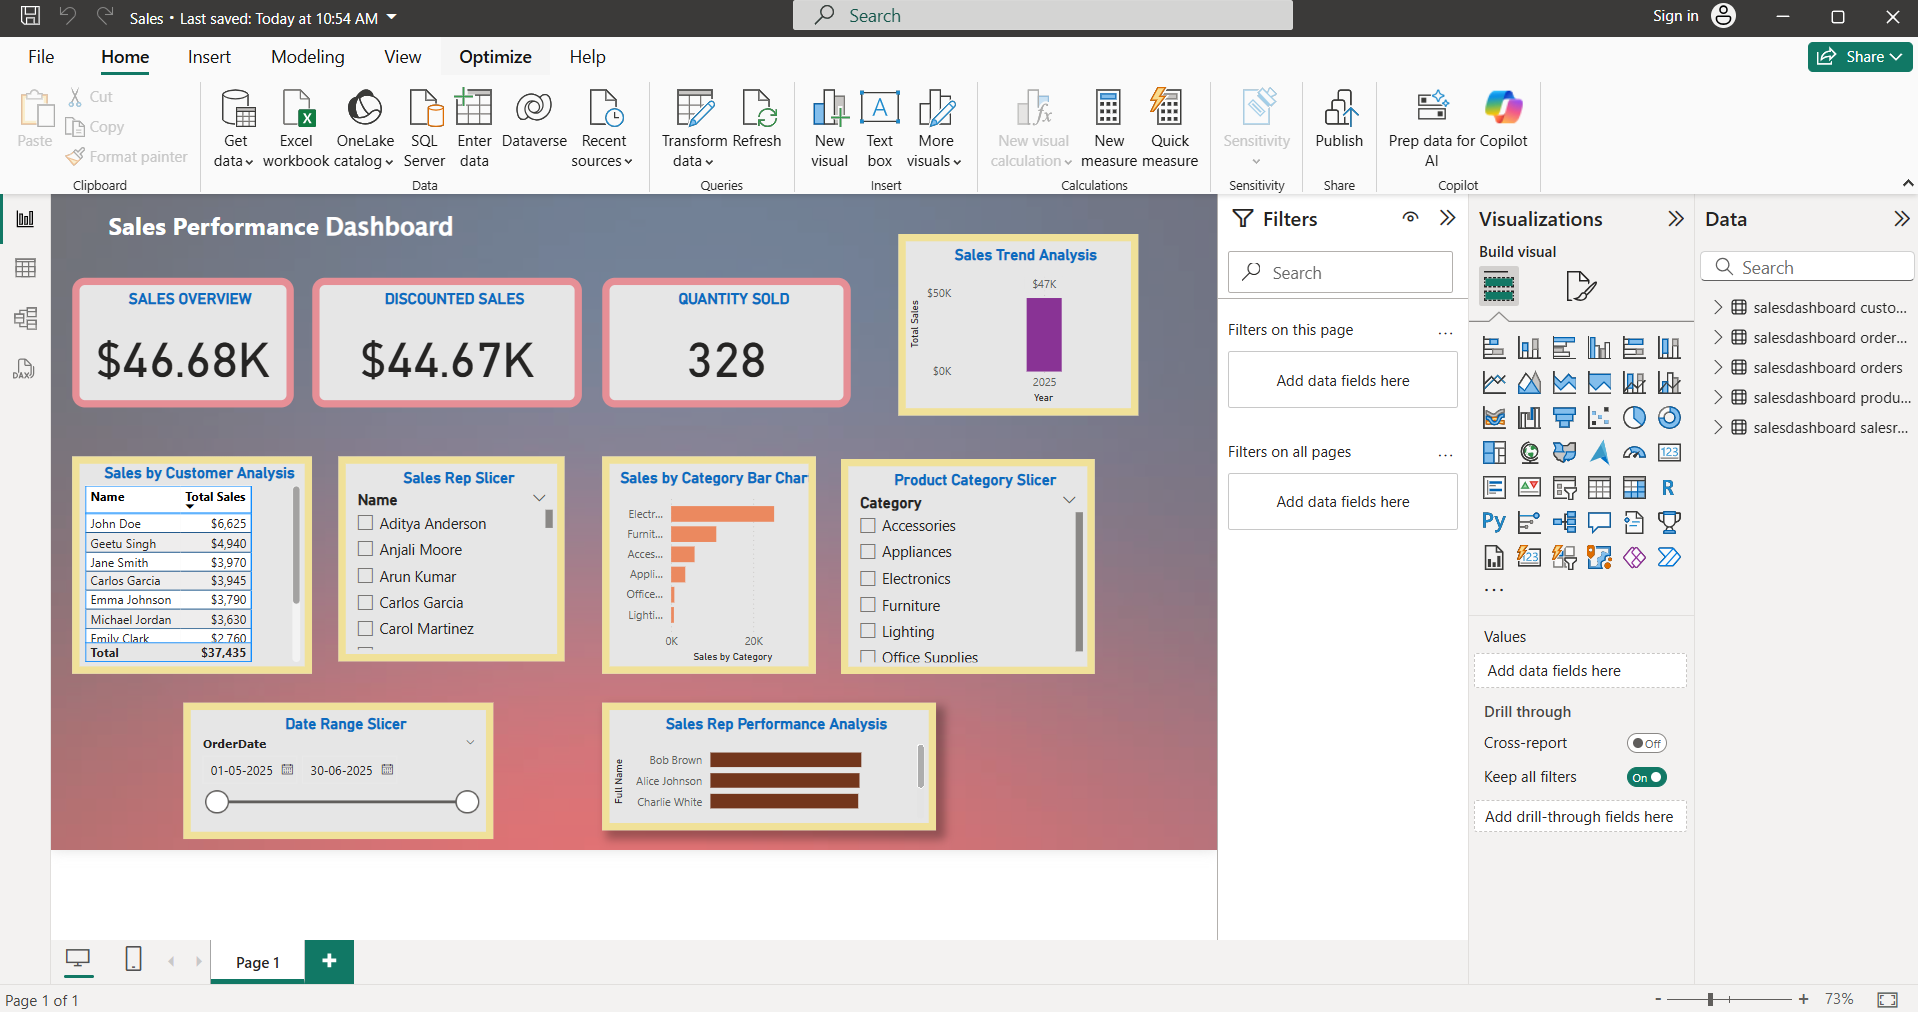

This screenshot's page, from the dashboard's own definition file:
{"tool":"powerbi","page":{"name":"Page 1","canvas":[1280,720],"ordinal":0},"visuals":[{"type":"card","title":"SALES OVERVIEW","fields":{"Values":["salesdashboard orderdetails.Total Sales"]},"box":[23.3,91.9,242.9,142.7],"z":0},{"type":"card","title":"QUANTITY SOLD","fields":{"Values":["salesdashboard orderdetails.Total Quantity Sold"]},"box":[605.1,91.9,273.1,142.7],"z":1000},{"type":"card","title":"DISCOUNTED SALES","fields":{"Values":["salesdashboard orderdetails.Total Discounted Sales"]},"box":[286.8,91.9,296.4,142.7],"z":2000},{"type":"clusteredBarChart","title":"Sales by Category Bar Chart","fields":{"Category":["salesdashboard products.Category"],"Y":["salesdashboard orderdetails.Sales by Category"]},"box":[605.1,288.2,234.6,238.8],"z":3000},{"type":"lineStackedColumnComboChart","title":"Sales Trend Analysis","fields":{"Category":["salesdashboard orders.OrderDate.Variation.Date Hierarchy.Year","salesdashboard orders.OrderDate.Variation.Date Hierarchy.Quarter","salesdashboard orders.OrderDate.Variation.Date Hierarchy.Month","salesdashboard orders.OrderDate.Variation.Date Hierarchy.Day"],"Y":["salesdashboard orderdetails.Total Sales"]},"box":[930.4,43.9,263.5,199],"z":4000},{"type":"tableEx","title":"Sales by Customer Analysis","fields":{"Values":["salesdashboard customers.Name","salesdashboard orderdetails.Total Sales"]},"box":[23.3,288.2,263.5,238.8],"z":5000},{"type":"clusteredBarChart","title":"Sales Rep Performance Analysis","fields":{"Category":["salesdashboard salesreps.Full Name"],"Y":["salesdashboard orderdetails.Total Sales"]},"box":[605.1,558.5,366.4,140],"z":6000},{"type":"slicer","title":" Product Category Slicer","fields":{"Values":["salesdashboard products.Category"]},"box":[867.2,290.9,278.6,236],"z":7000},{"type":"slicer","title":"Date Range Slicer","fields":{"Values":["salesdashboard orders.OrderDate"]},"box":[145.5,558.5,340.3,149.6],"z":8000},{"type":"slicer","title":"Sales Rep Slicer","fields":{"Values":["salesdashboard customers.Name"]},"box":[315.6,288.2,248.4,225],"z":9000},{"type":"textbox","box":[23.3,11,462.4,64.5],"z":10000}]}

Visuals, with their boxes on the page's 1280x720 design canvas (x1, y1, x2, y2). These are canvas units, not pixel positions in the 1918x1012 screenshot, which may show the page scaled, cropped or inside an application window:
"SALES OVERVIEW" card: (x1=23, y1=92, x2=266, y2=235)
"QUANTITY SOLD" card: (x1=605, y1=92, x2=878, y2=235)
"DISCOUNTED SALES" card: (x1=287, y1=92, x2=583, y2=235)
"Sales by Category Bar Chart" clusteredBarChart: (x1=605, y1=288, x2=840, y2=527)
"Sales Trend Analysis" lineStackedColumnComboChart: (x1=930, y1=44, x2=1194, y2=243)
"Sales by Customer Analysis" tableEx: (x1=23, y1=288, x2=287, y2=527)
"Sales Rep Performance Analysis" clusteredBarChart: (x1=605, y1=558, x2=972, y2=698)
" Product Category Slicer" slicer: (x1=867, y1=291, x2=1146, y2=527)
"Date Range Slicer" slicer: (x1=146, y1=558, x2=486, y2=708)
"Sales Rep Slicer" slicer: (x1=316, y1=288, x2=564, y2=513)
textbox: (x1=23, y1=11, x2=486, y2=76)
